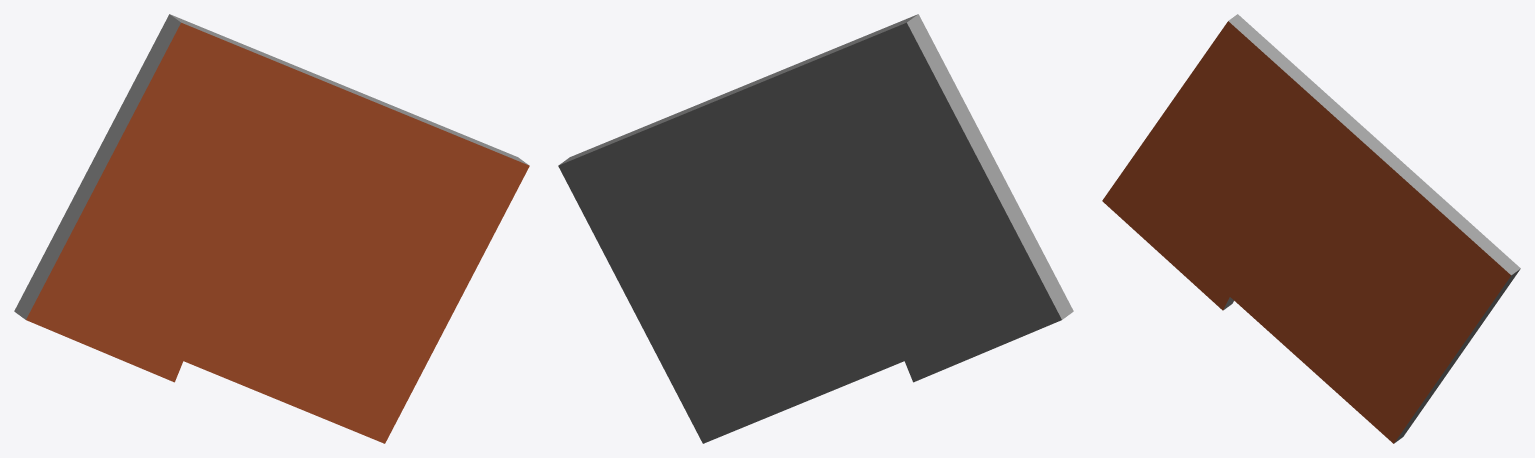
The model's file is construction_0118_assumed_A_Grande_construcao_h6m.obj.
3 views of the same model, side by side, from view 1: azimuth 30°, elevation 25°; view 2: azimuth 150°, elevation 25°; view 3: azimuth 330°, elevation 25° (orthographic). The views are drawn at different scales.
Visible parts, largest first — view 1: construction_0118_assumed_A_Grande_construcao; view 2: construction_0118_assumed_A_Grande_construcao; view 3: construction_0118_assumed_A_Grande_construcao.
Boxes of the visible parts, box(x1,y1,x2,y2) form: construction_0118_assumed_A_Grande_construcao: box(14, 14, 529, 443); construction_0118_assumed_A_Grande_construcao: box(558, 14, 1073, 443); construction_0118_assumed_A_Grande_construcao: box(1102, 14, 1520, 443).
Size of the model in its own units: 148 by 132 by 6.
